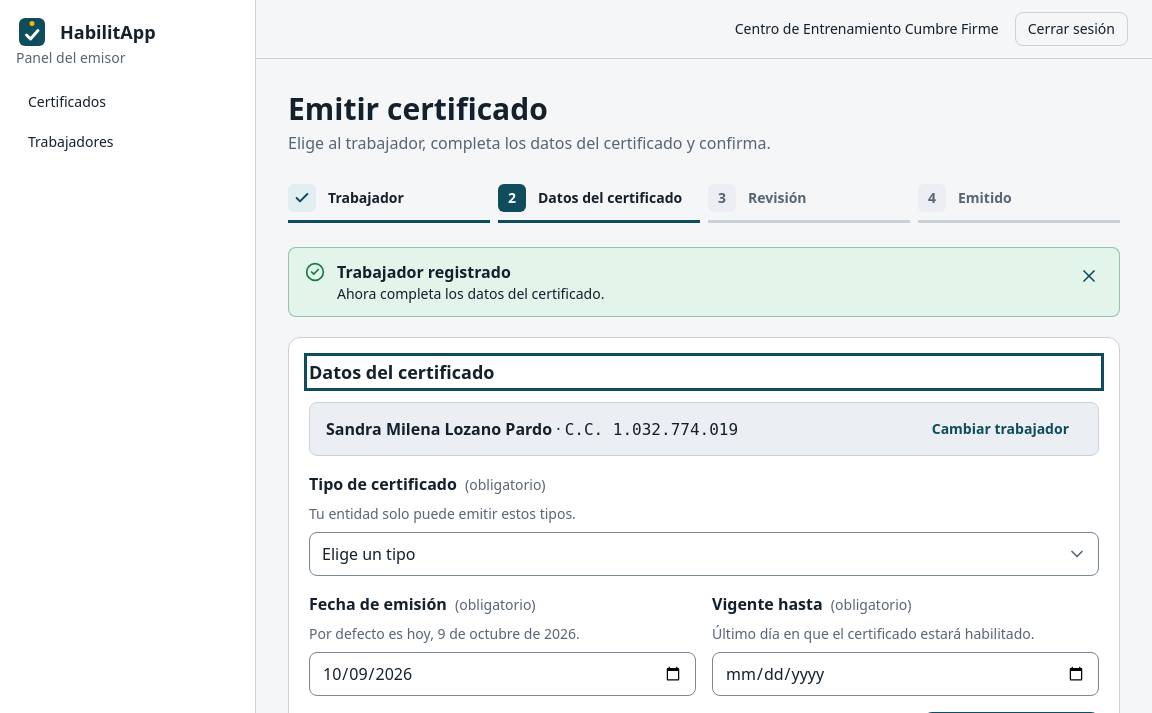
it: IssueCertificatePage › shows "Trabajador registrado" only for the worker that came from the address
Expected: the text "Trabajador registrado" is shown, [337,261,511,283]
What coordinates should you click on to do the following:
click the button "Cambiar trabajador"
I would click on:
 (1000, 429)
Its box is [919,411,1082,447].
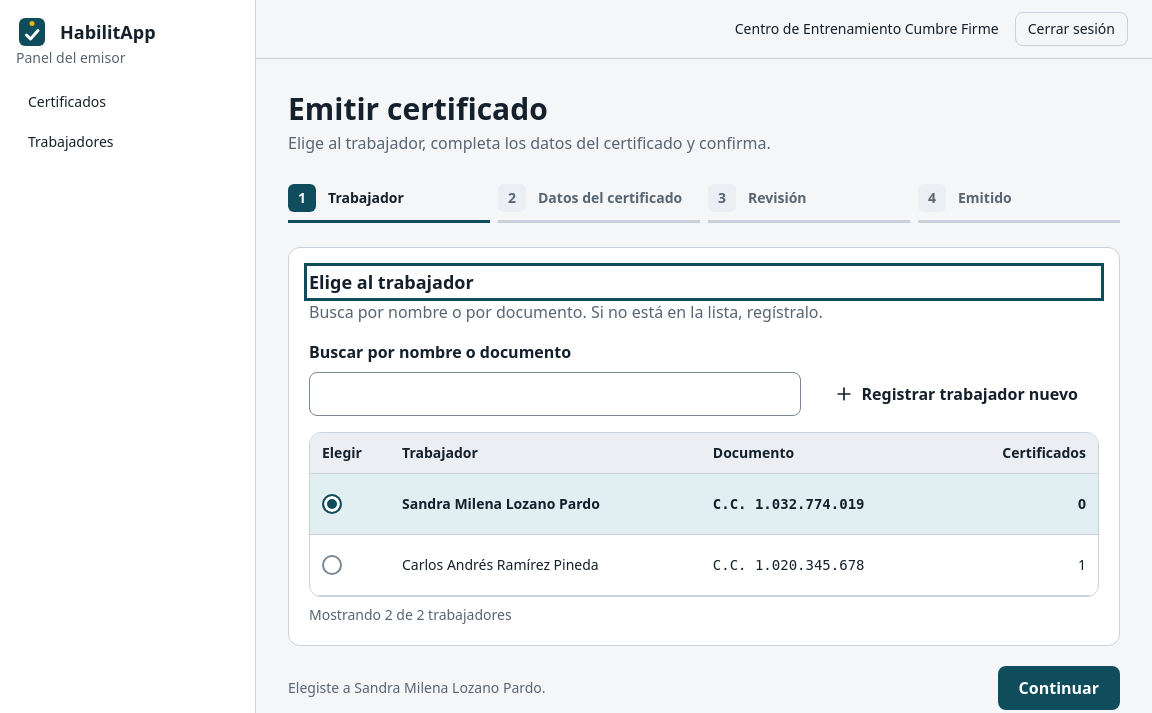
What coordinates should you click on to do the following:
click the radio button named "Elegir a Carlos Andrés Ramírez Pineda" next to "Carlos Andrés Ramírez Pineda"
I would click on:
 (332, 564)
Its box is [322,554,342,574].
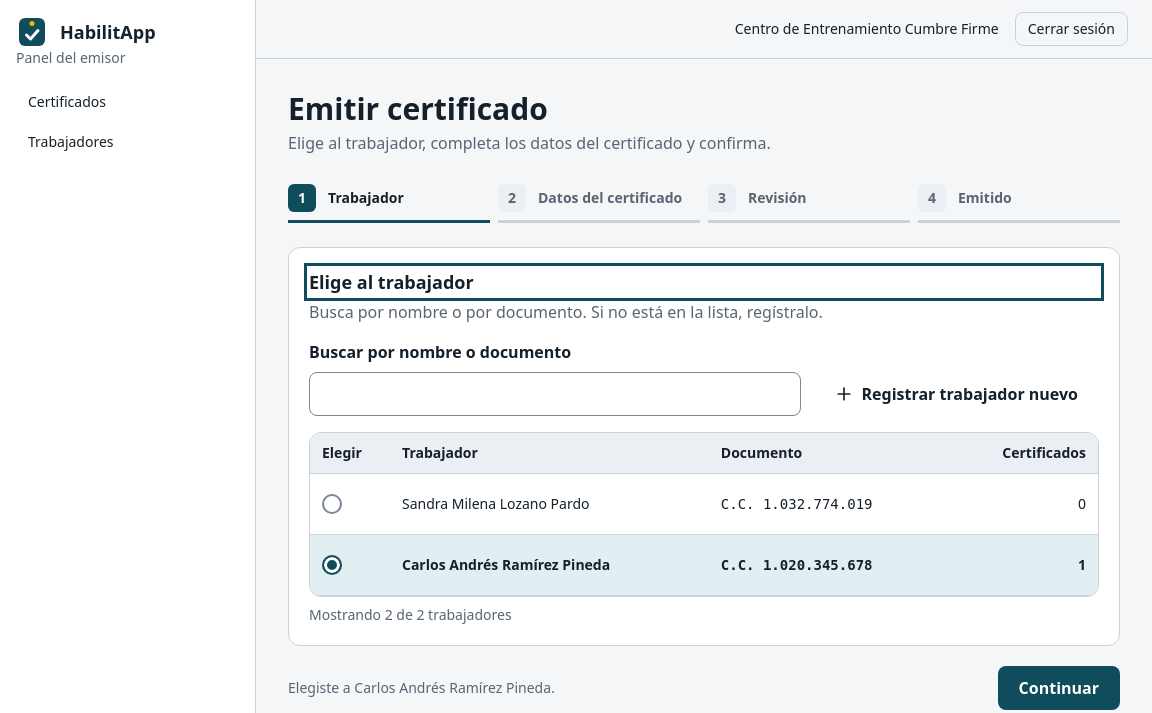
What coordinates should you click on to do the following:
click the button "Continuar"
I would click on:
 (1059, 688)
Its box is [998,666,1120,710].
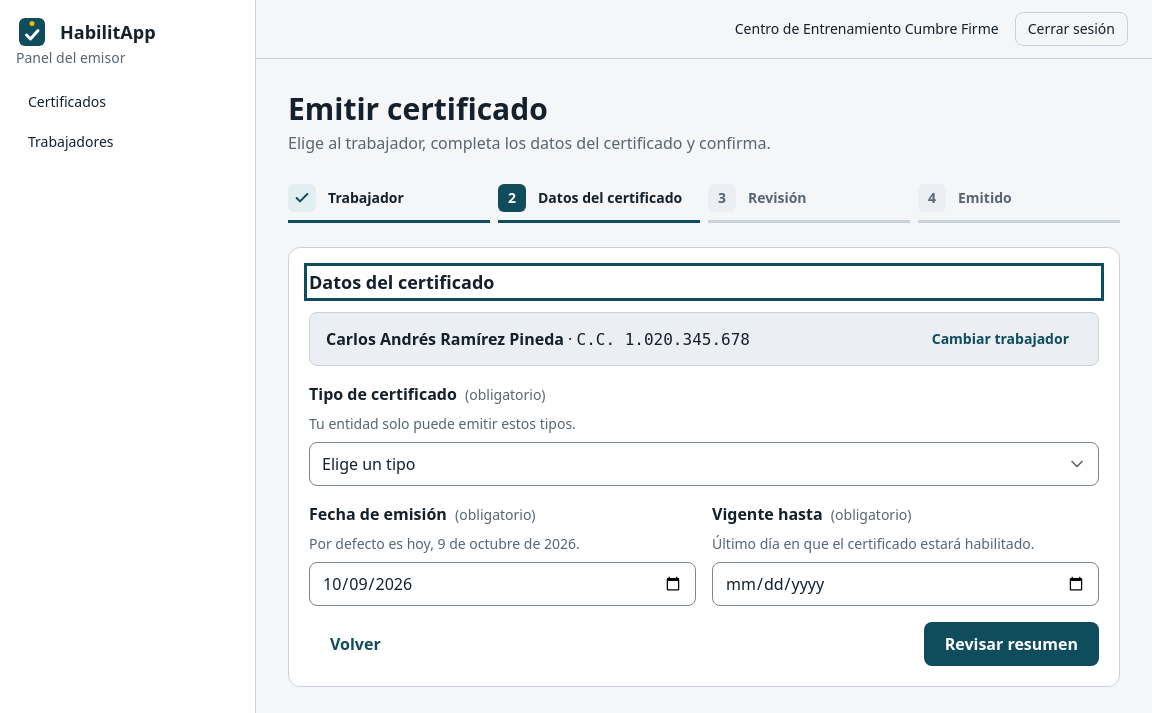
Expected: the text "Trabajador registrado" is not shown
Expected: the heading "Datos del certificado" is shown, [309,270,494,294]
